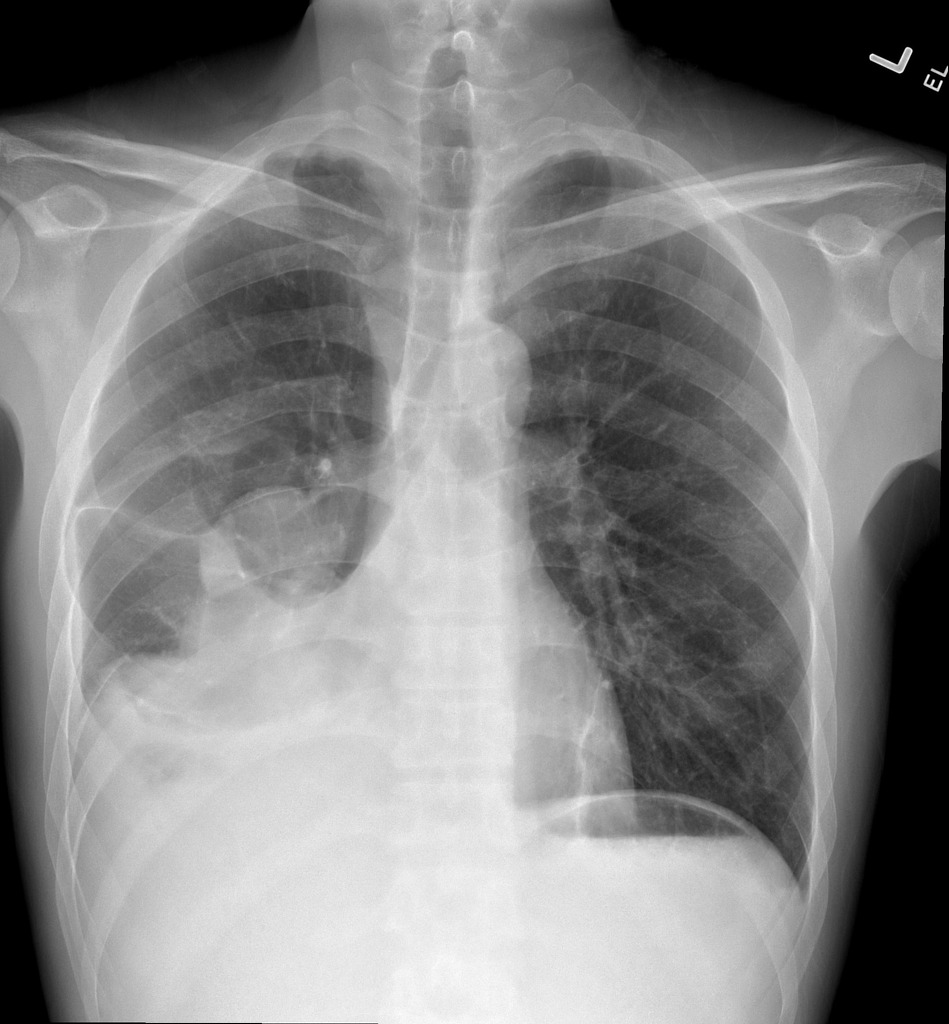cancer: (70, 258, 410, 956)
